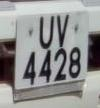2: (53, 43, 69, 89)
4: (21, 46, 39, 91), (38, 45, 55, 90)
8: (67, 41, 83, 86)
U: (38, 13, 56, 52)
V: (55, 12, 71, 51)
